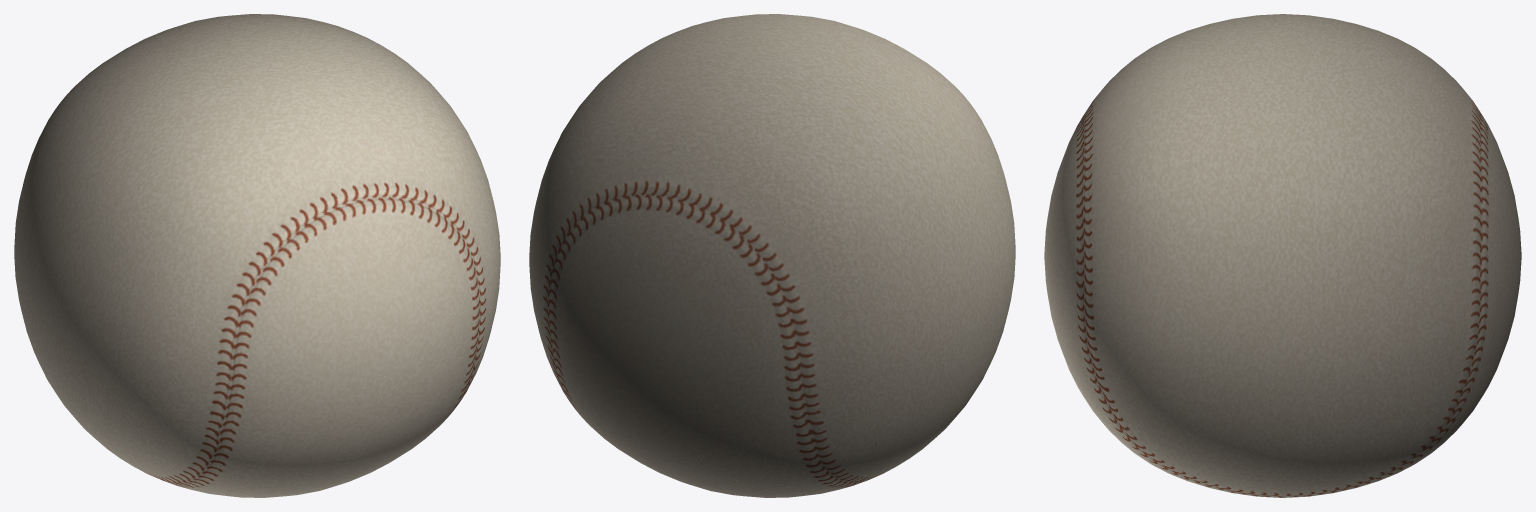
Rendered from Bola_Baseball.obj.
3 views of the same model, side by side, from view 1: azimuth 30°, elevation 25°; view 2: azimuth 150°, elevation 25°; view 3: azimuth 270°, elevation 25° (orthographic).
Parts seen in each view (by area): view 1: 10483_baseball_v1_L3.005; view 2: 10483_baseball_v1_L3.005; view 3: 10483_baseball_v1_L3.005.
Part boxes in pixels (bbox=[...]): 10483_baseball_v1_L3.005: bbox=[14, 14, 500, 497]; 10483_baseball_v1_L3.005: bbox=[529, 14, 1015, 497]; 10483_baseball_v1_L3.005: bbox=[1044, 14, 1521, 497].
Size of the model in its own units: 0.3918 by 0.3918 by 0.3918.
